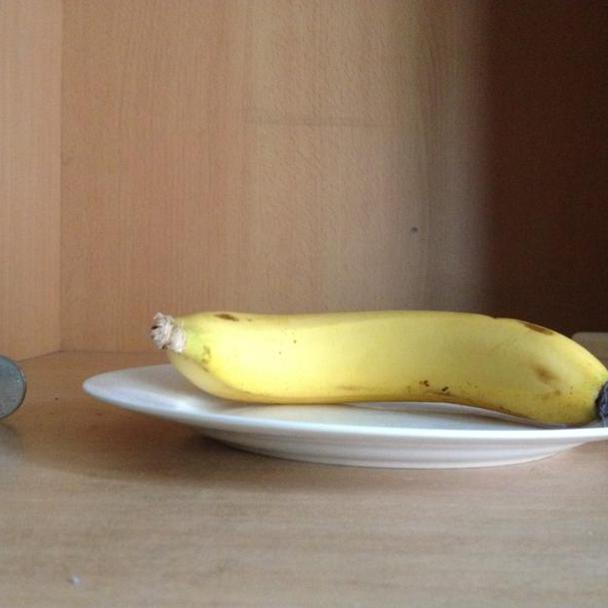banana: (147, 302, 608, 423)
